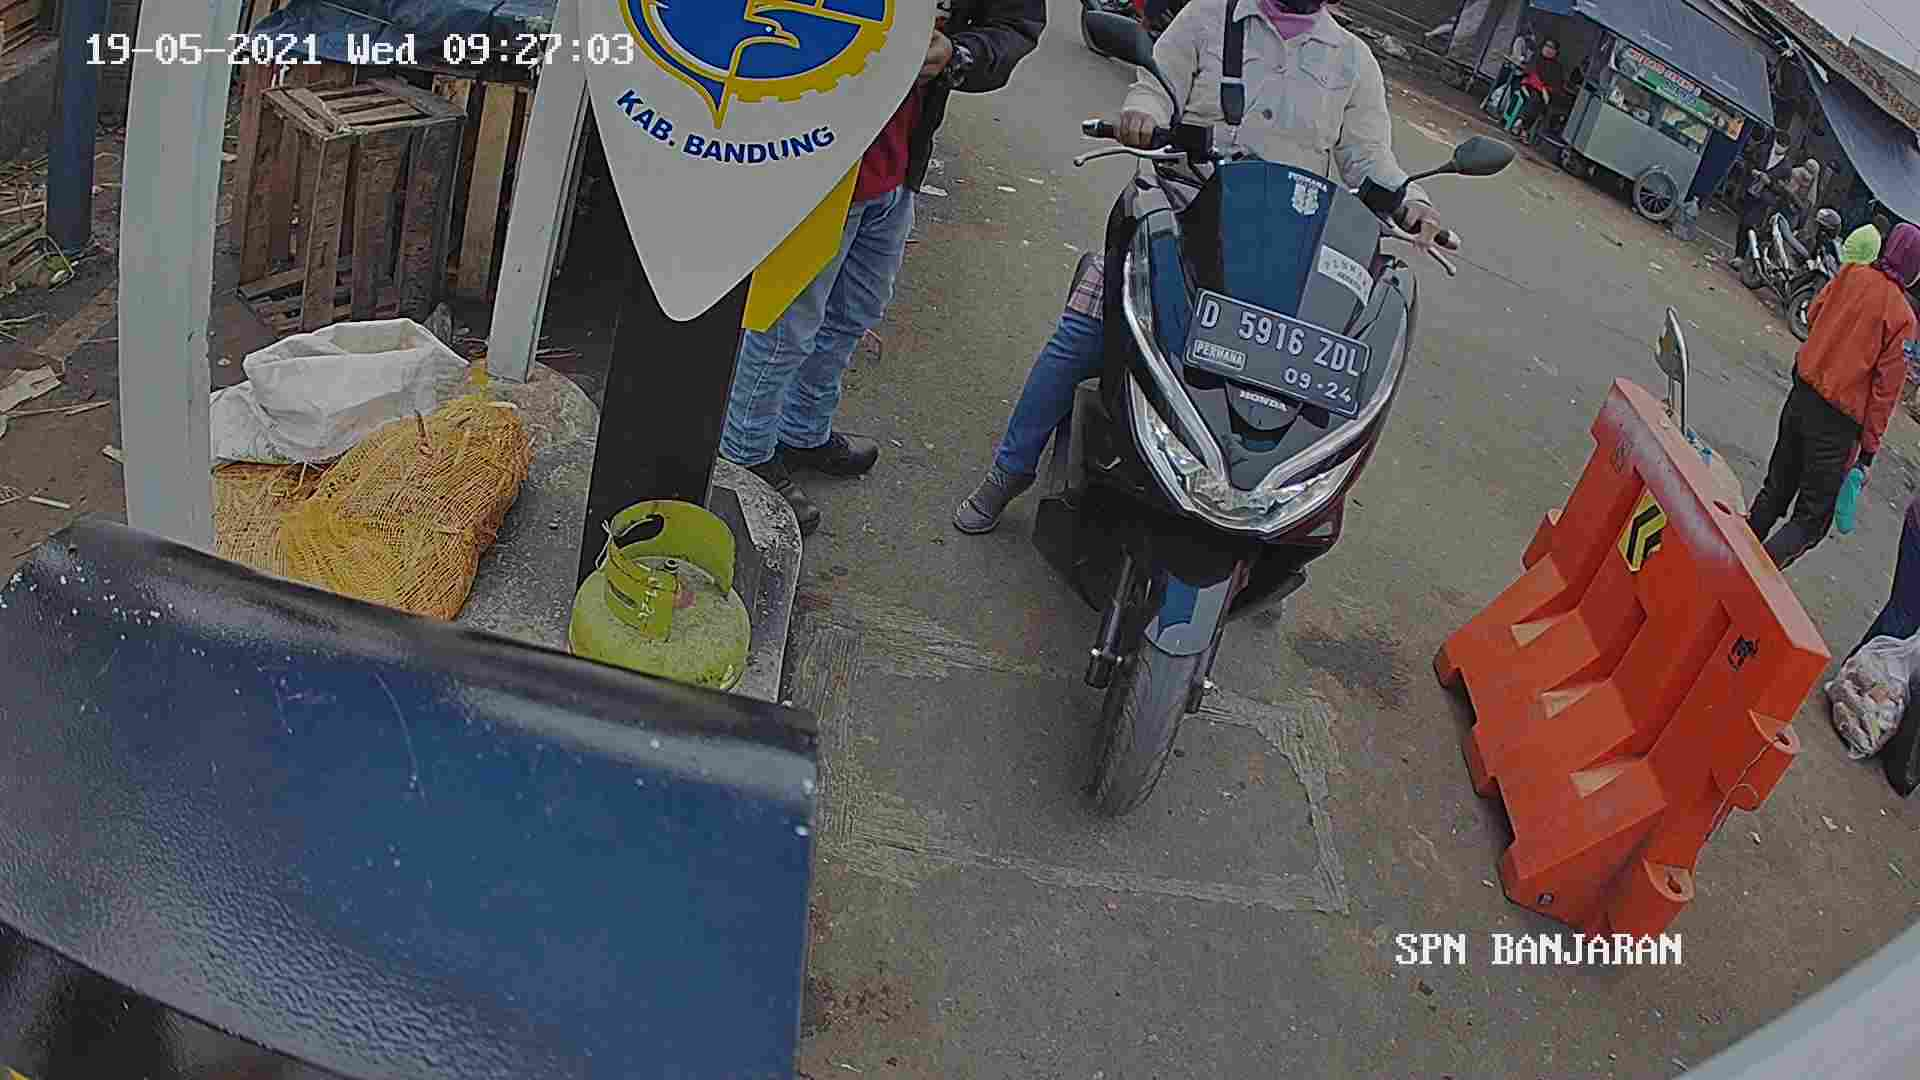motor: (1033, 94, 1428, 825)
